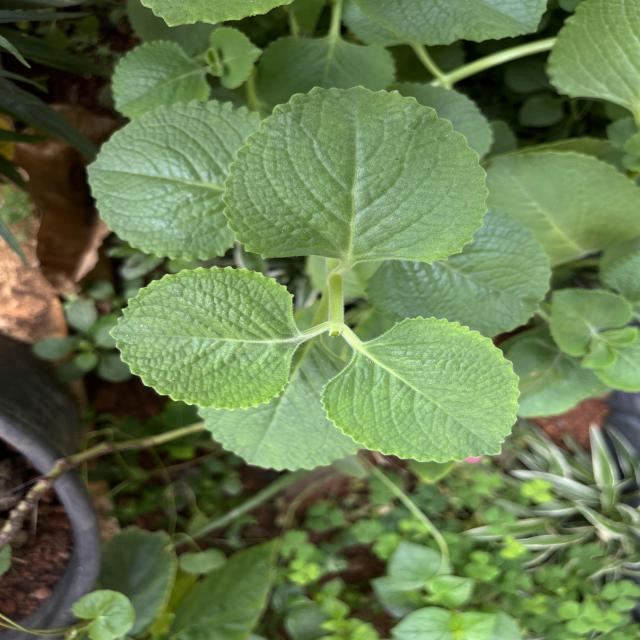Plectranthus barbatus: (222, 84, 491, 266), (319, 316, 522, 465), (83, 99, 265, 262), (108, 266, 300, 411), (110, 40, 212, 121)
